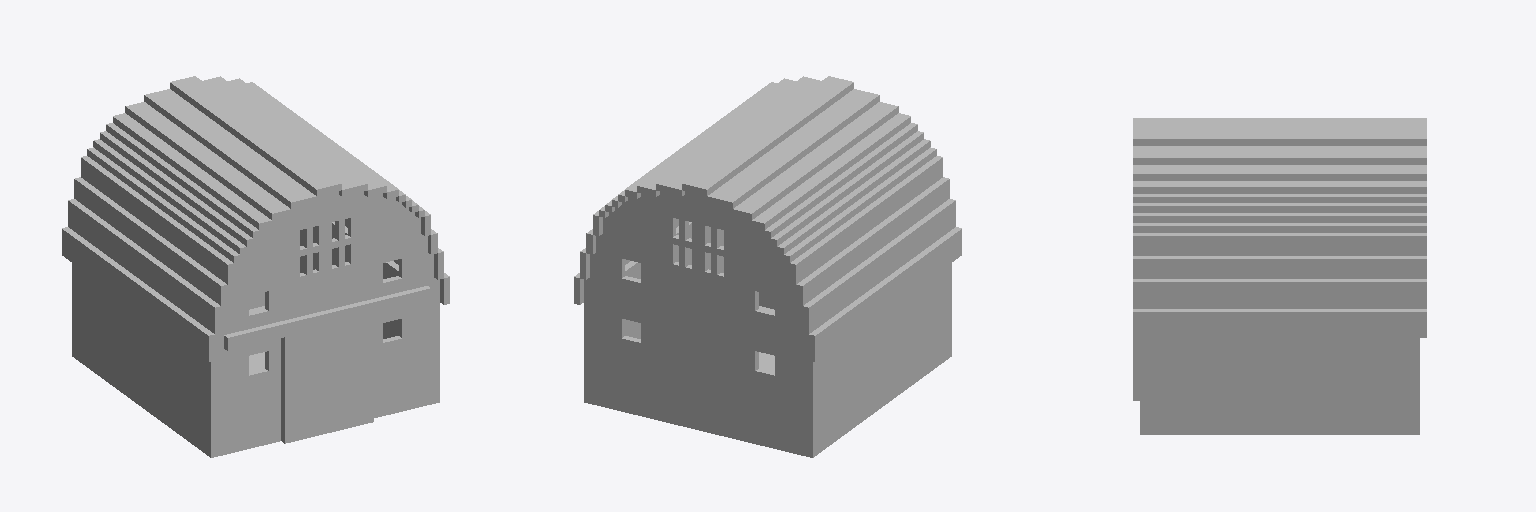
File: Barn.obj
3 renders of one model, left to right at view 1: azimuth 30°, elevation 25°; view 2: azimuth 150°, elevation 25°; view 3: azimuth 270°, elevation 25°, orthographic.
Parts seen in each view (by area): view 1: object 1; view 2: object 1; view 3: object 1.
Part boxes in pixels (x1,y1,x2,y2): object 1: (62, 76, 449, 457); object 1: (574, 76, 961, 457); object 1: (1133, 118, 1426, 434).
Size of the model in its own units: 3.8 by 3.7 by 4.